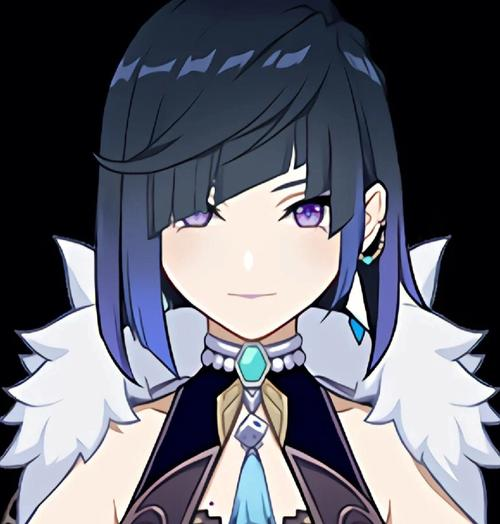夜兰: (27, 2, 497, 524)
